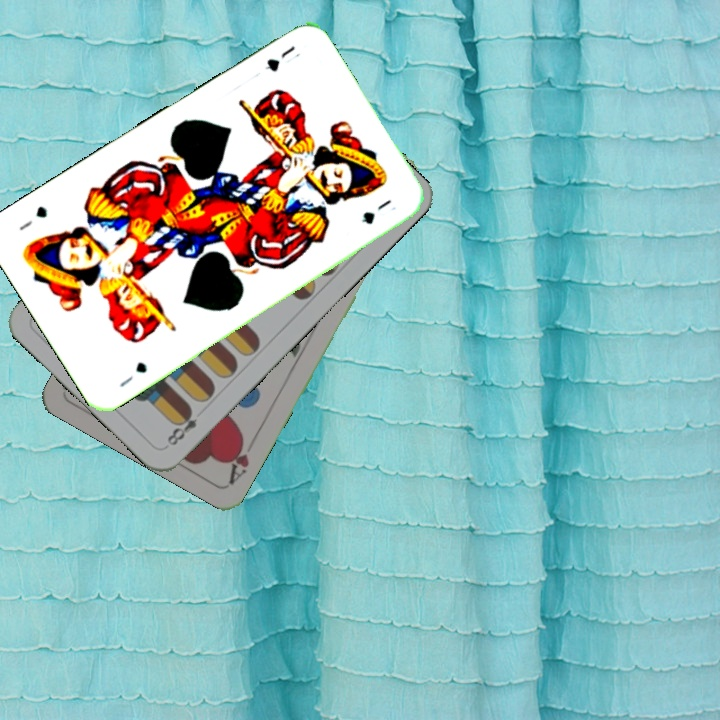E8: (162, 403, 201, 450)
GU: (261, 41, 298, 75), (115, 358, 150, 390)
HA: (224, 430, 260, 487)
